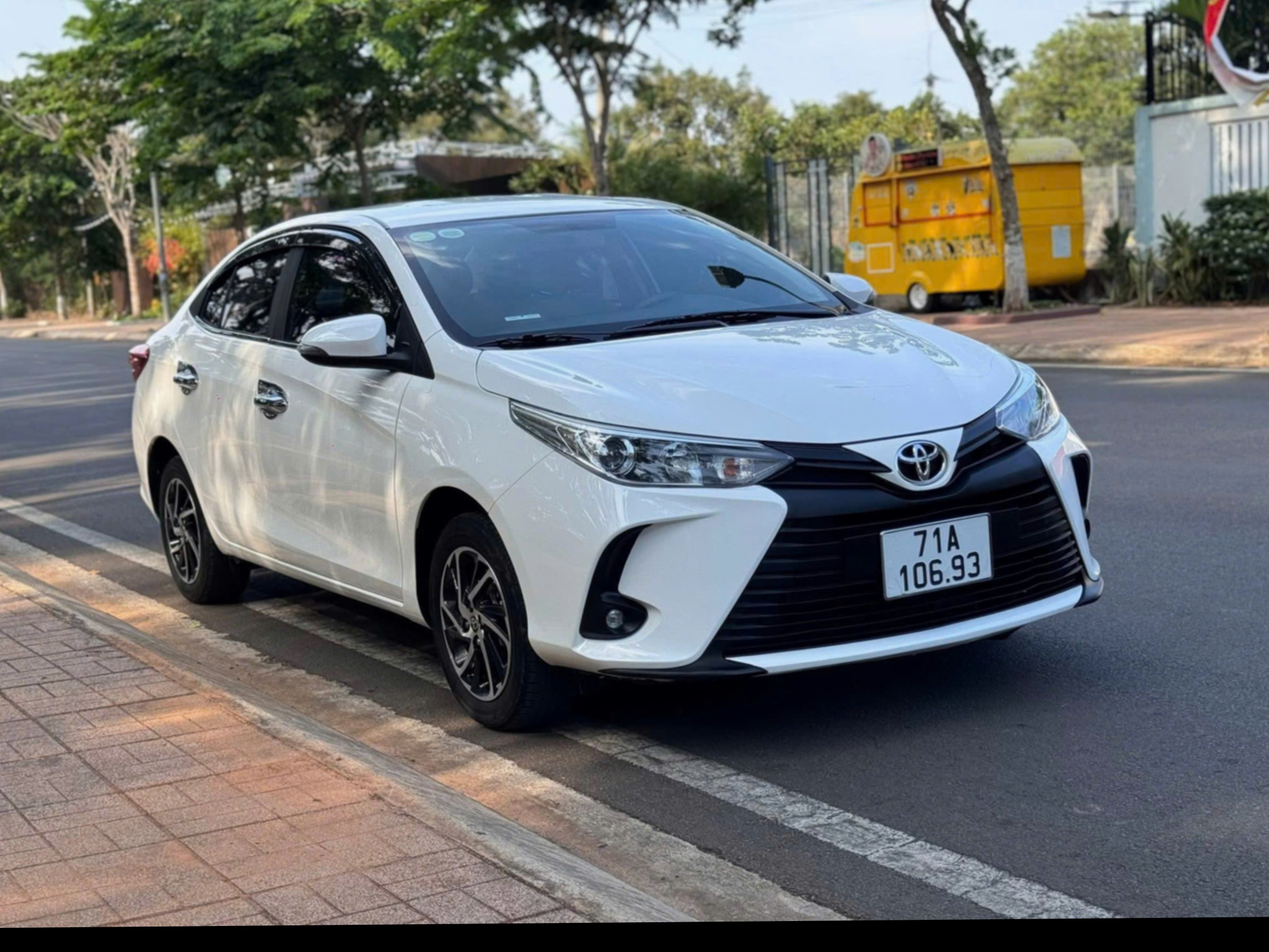Bien-so: (878, 510, 996, 595)
